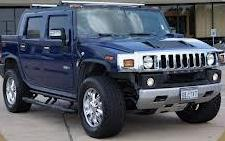front_view: (117, 47, 219, 113)
headlight: (112, 53, 163, 94)
side_glass: (19, 14, 72, 50)
